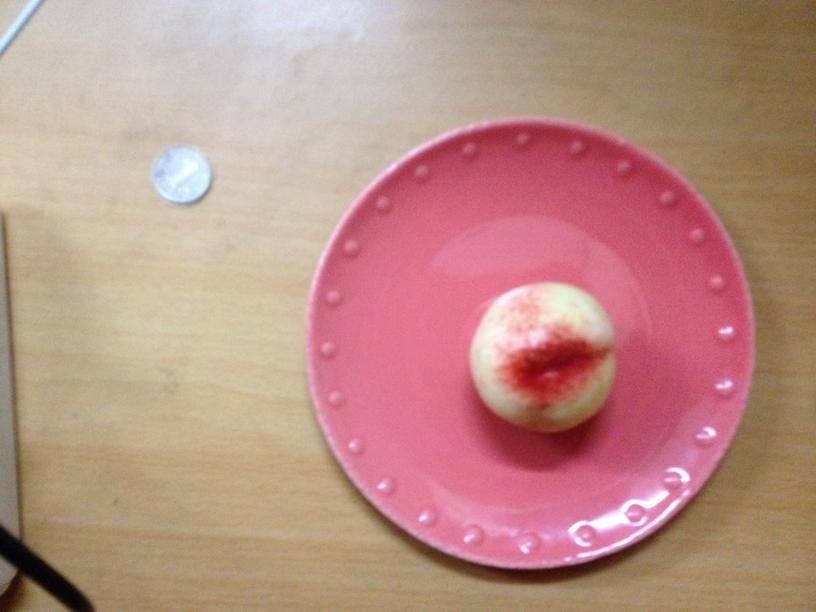coin: (151, 146, 213, 205)
peach: (466, 283, 619, 431)
